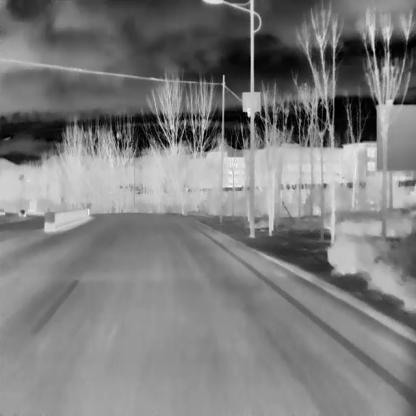car: (19, 209, 26, 217)
